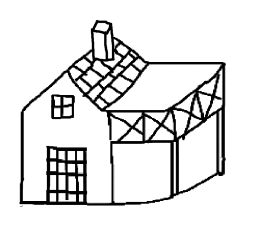chimney: (88, 12, 117, 65)
closed_window: (47, 93, 79, 120)
door: (34, 139, 95, 208)
roof: (15, 38, 148, 116)
wall: (7, 106, 125, 209)
